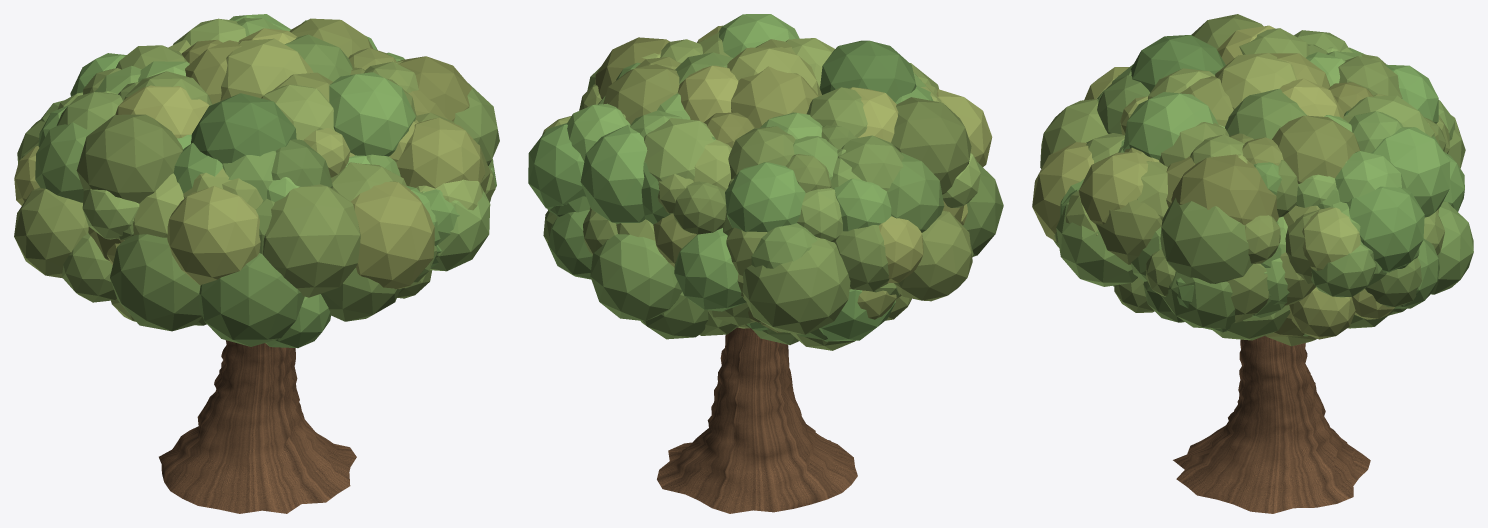
Rendered from tree.glb.
3 views of the same model, side by side, from view 1: azimuth 30°, elevation 25°; view 2: azimuth 150°, elevation 25°; view 3: azimuth 270°, elevation 25° (orthographic). The views are drawn at different scales.
Visible parts, largest first — view 1: Canopy, TrunkLower; view 2: Canopy, TrunkLower; view 3: Canopy, TrunkLower.
Boxes of the visible parts, x1,y1,x2,y2 form: Canopy: (14,14,499,348); TrunkLower: (159,340,356,513); Canopy: (528,14,1003,350); TrunkLower: (657,327,857,513); Canopy: (1032,14,1473,346); TrunkLower: (1173,336,1370,513).
Size of the model in its own units: 12.42 by 11.96 by 11.59.
Materials: 2 (1 with a texture image).
